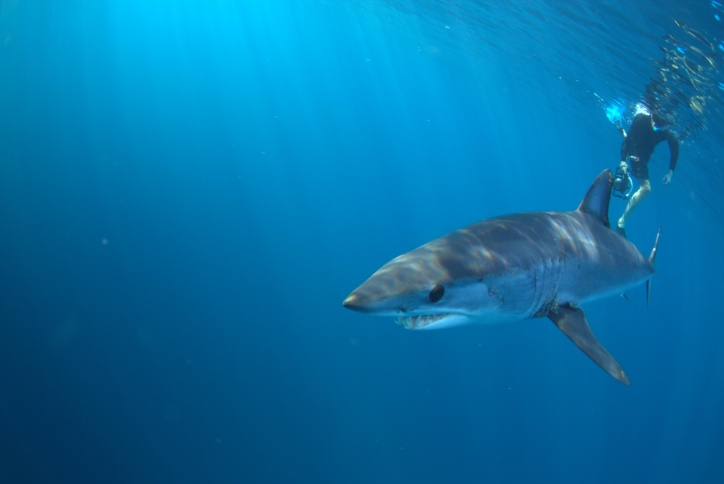Mako: (328, 163, 676, 402)
